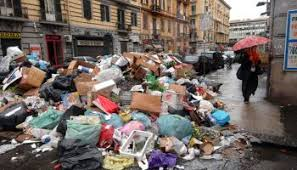garbage: (4, 47, 180, 170), (58, 73, 232, 170)
